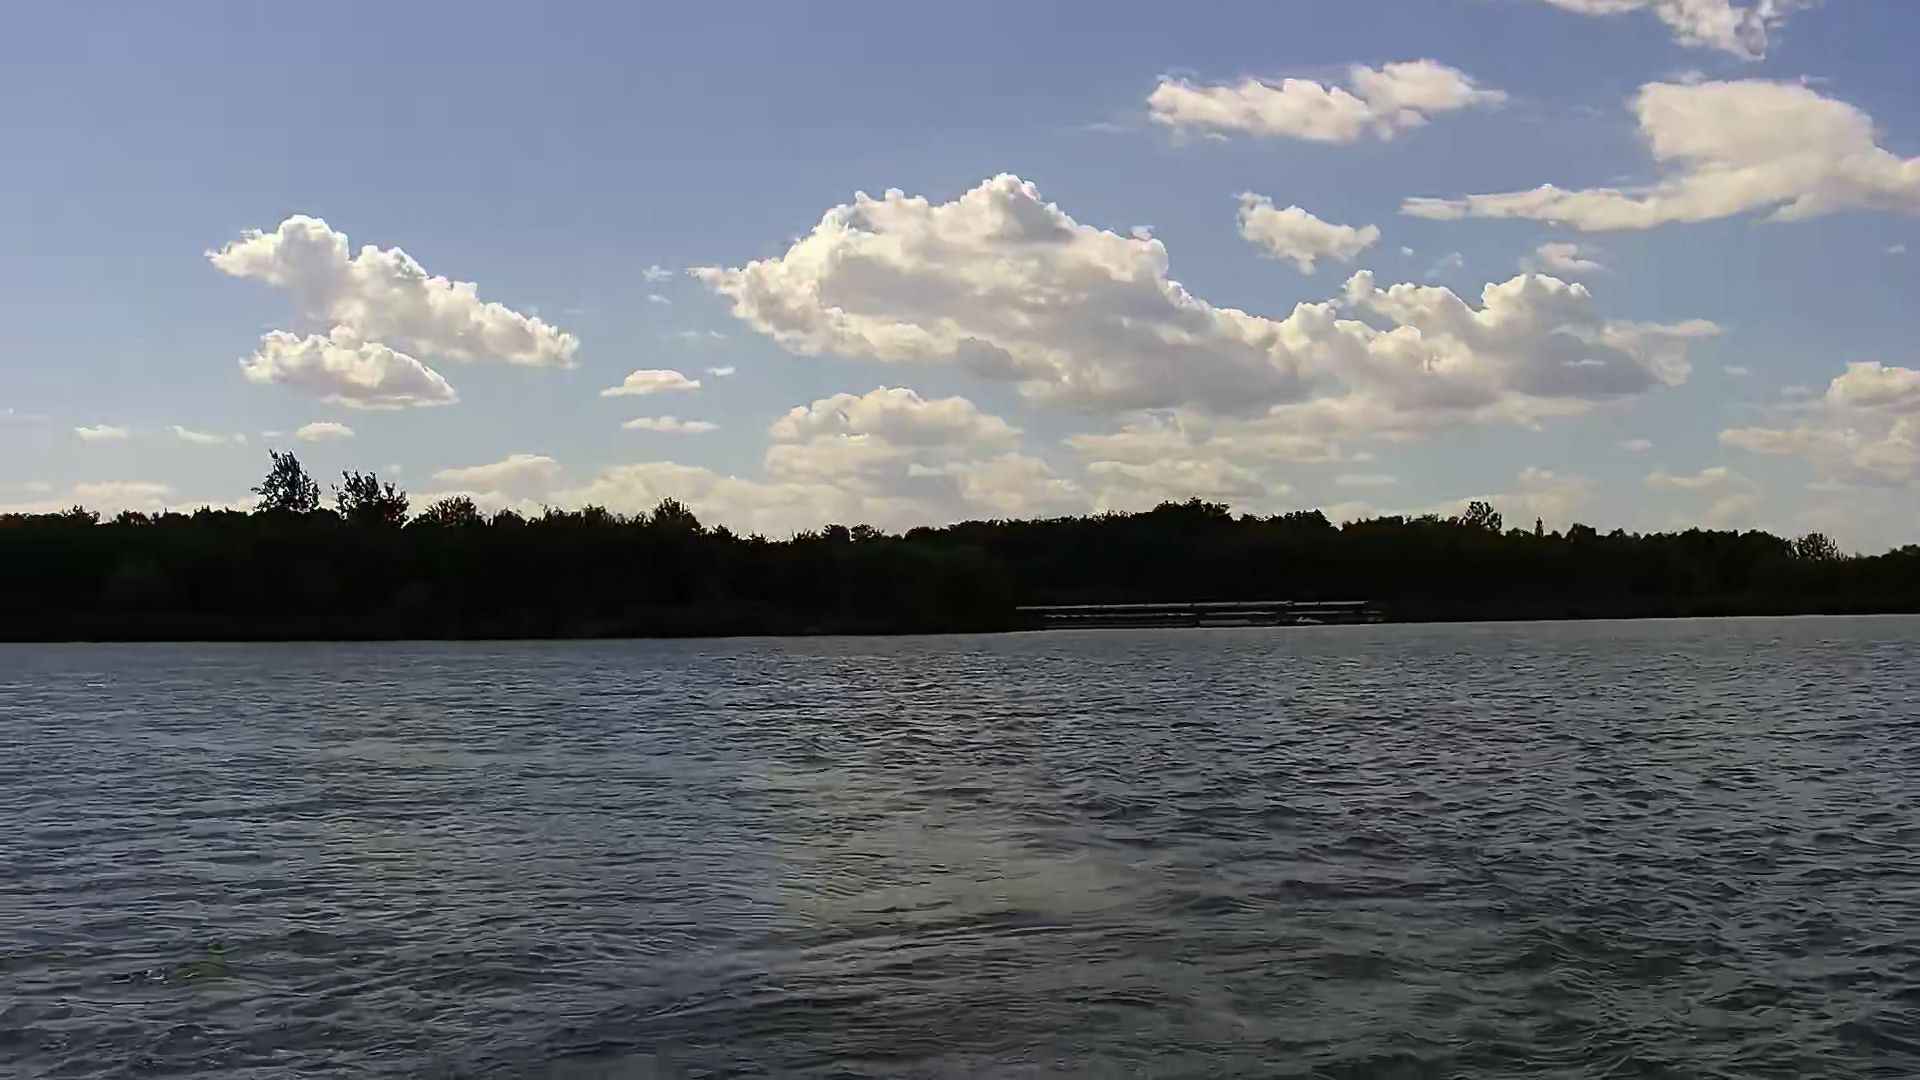harbor: (1018, 601, 1378, 626)
